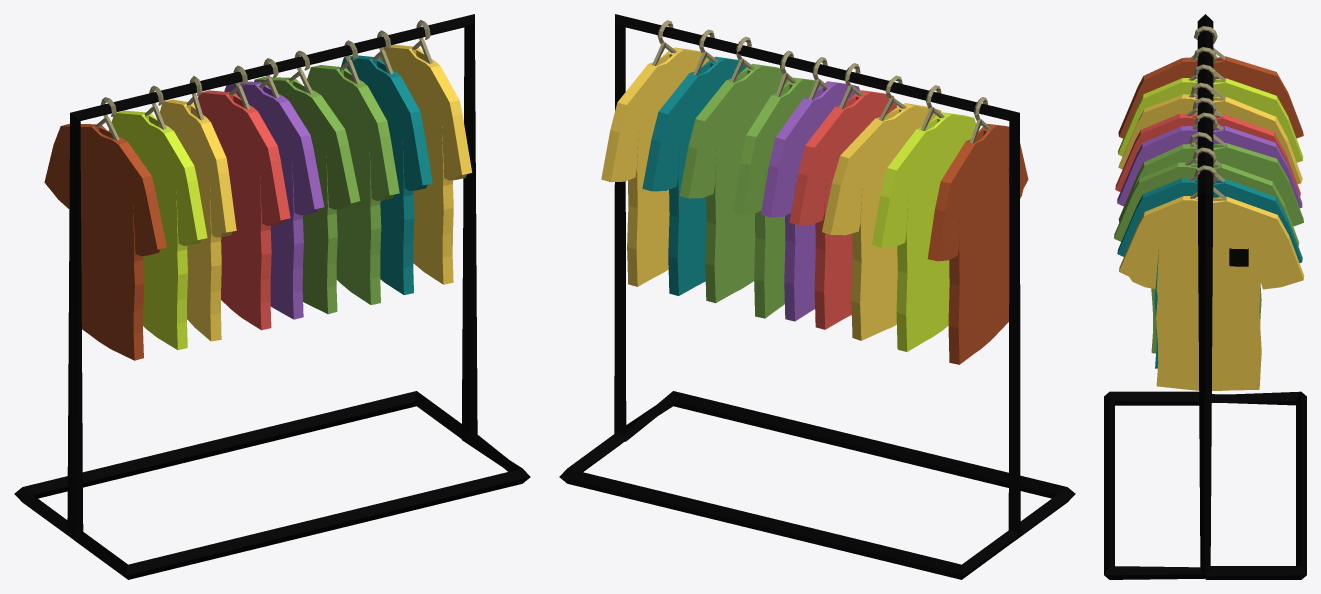
The model's file is rack_t_shirts.fbx.
3 views of the same model, side by side, from view 1: azimuth 30°, elevation 25°; view 2: azimuth 150°, elevation 25°; view 3: azimuth 270°, elevation 25° (orthographic). The views are drawn at different scales.
Parts seen in each view (by area): view 1: rack, tshirt.006, Plane.001, tshirt.005, tshirt.001, tshirt.003, tshirt, tshirt.002, tshirt.004, Plane; view 2: rack, tshirt.006, tshirt.005, tshirt.001, tshirt.004, tshirt.003, Plane.001, tshirt.002, tshirt, Plane; view 3: tshirt.003, rack, tshirt.006, tshirt, tshirt.002, tshirt.005, tshirt.004, tshirt.001, Plane, Plane.001.
Part boxes in pixels (box(x1,y1,x2,y2)): rack: box(14, 14, 530, 579); tshirt.006: box(44, 97, 166, 360); Plane.001: box(198, 65, 290, 330); tshirt.005: box(108, 85, 207, 349); tshirt.001: box(307, 40, 399, 304); tshirt.003: box(380, 20, 472, 284); tshirt: box(254, 50, 360, 314); tshirt.002: box(341, 30, 432, 294); tshirt.004: box(160, 76, 236, 341); Plane: box(224, 81, 324, 319); rack: box(559, 14, 1075, 579); tshirt.006: box(927, 97, 1028, 364); tshirt.005: box(872, 85, 975, 351); tshirt.001: box(679, 36, 788, 303); tshirt.004: box(822, 75, 941, 340); tshirt.003: box(601, 20, 709, 286); Plane.001: box(789, 63, 897, 329); tshirt.002: box(642, 29, 746, 295); tshirt: box(733, 50, 820, 318); Plane: box(760, 81, 859, 321); tshirt.003: box(1119, 165, 1304, 390); rack: box(1104, 14, 1306, 579); tshirt.006: box(1118, 26, 1303, 138); tshirt: box(1118, 112, 1303, 324); tshirt.002: box(1117, 147, 1302, 368); tshirt.005: box(1118, 47, 1303, 162); tshirt.004: box(1118, 64, 1302, 183); tshirt.001: box(1114, 132, 1299, 353); Plane: box(1117, 126, 1302, 208); Plane.001: box(1115, 82, 1300, 196).
Bounding box in the file's own units: 446 × 455 × 211.
11 materials, 1 textured.
